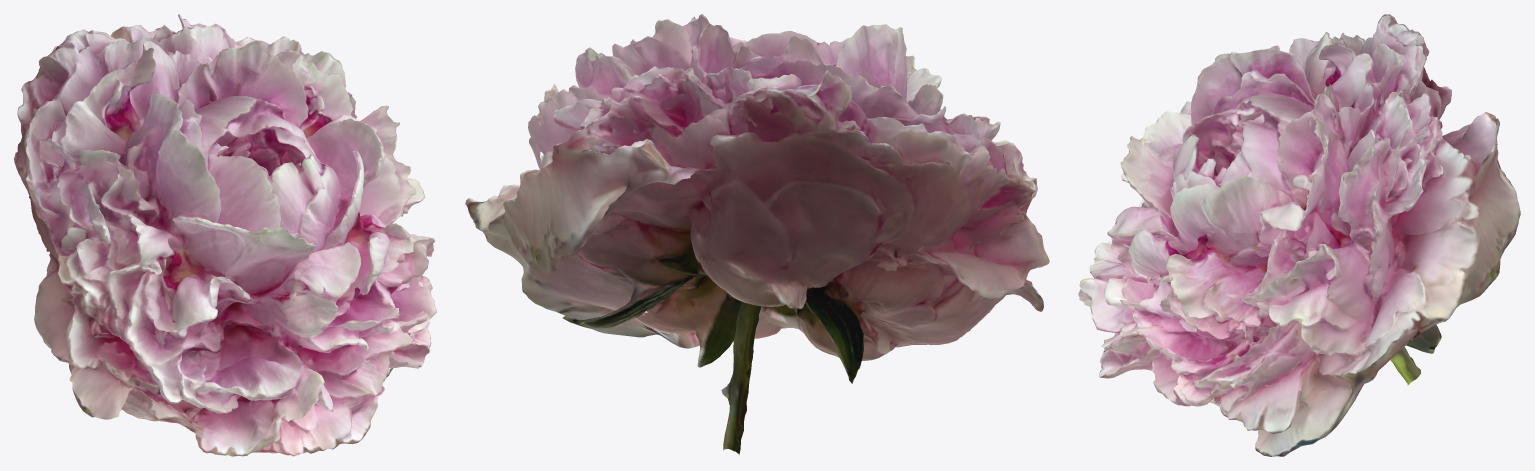
The model's file is HoaHong.glb.
The picture shows the model from 3 angles, left to right: view 1: azimuth 30°, elevation 25°; view 2: azimuth 150°, elevation 25°; view 3: azimuth 270°, elevation 25°; orthographic projection. The views are drawn at different scales.
Parts seen in each view (by area): view 1: Object_4; view 2: Object_4; view 3: Object_4.
Part boxes in pixels (x1,y1,x2,y2): Object_4: [14, 14, 436, 456]; Object_4: [465, 14, 1049, 454]; Object_4: [1078, 14, 1520, 456].
Bounding box in the file's own units: 1.15 × 0.9338 × 1.12.
1 material, 1 textured.
